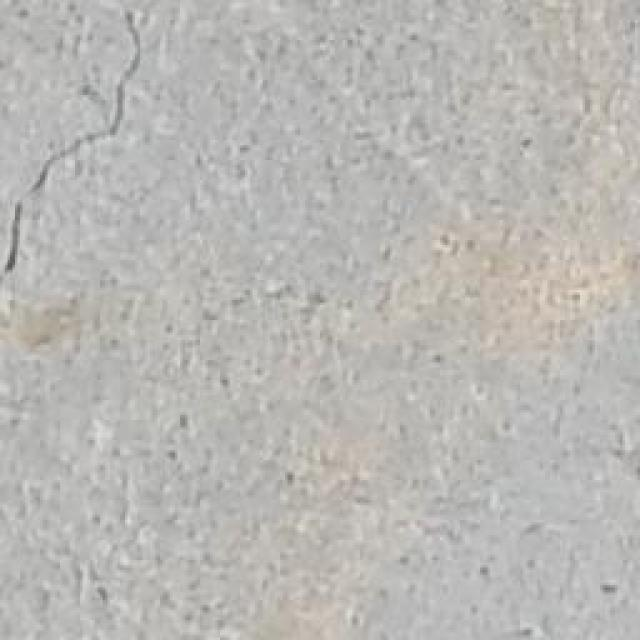concrete-crack: (2, 3, 149, 284)
